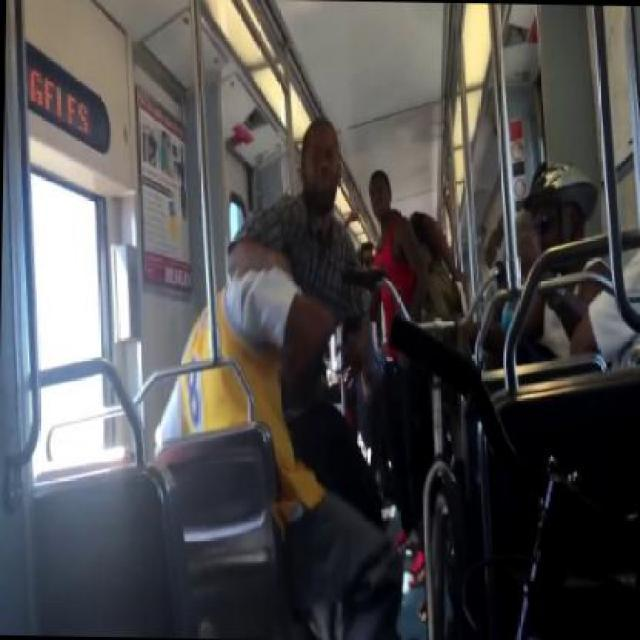fight: (176, 115, 378, 422)
